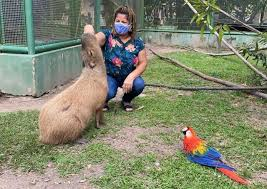capivara: (36, 33, 110, 150)
